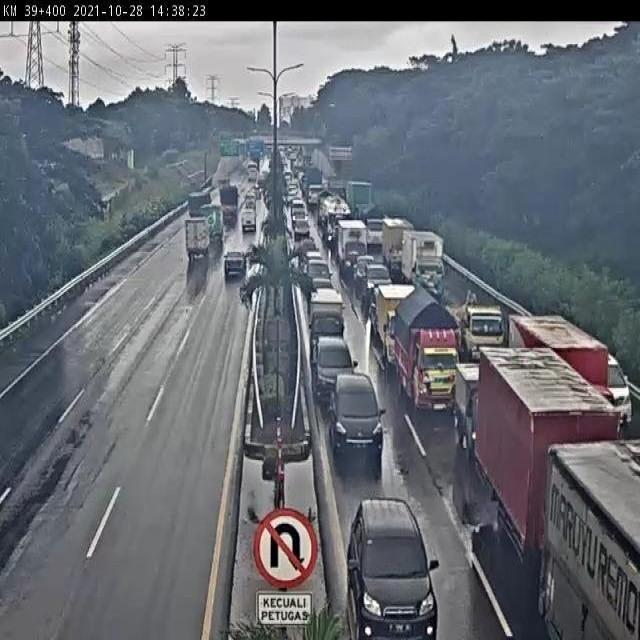big truck: (478, 352, 618, 565), (545, 438, 640, 640), (392, 295, 465, 424), (508, 318, 616, 398), (443, 270, 504, 346), (181, 211, 212, 264)
car: (350, 492, 435, 632), (333, 372, 386, 463), (315, 333, 354, 398), (220, 250, 248, 286), (292, 211, 321, 241), (367, 265, 392, 292), (309, 276, 339, 293), (309, 258, 333, 278), (239, 210, 258, 234), (305, 249, 325, 263)
small truck: (455, 360, 501, 452), (378, 286, 419, 358), (402, 229, 443, 291), (380, 212, 416, 271), (308, 289, 346, 343)
